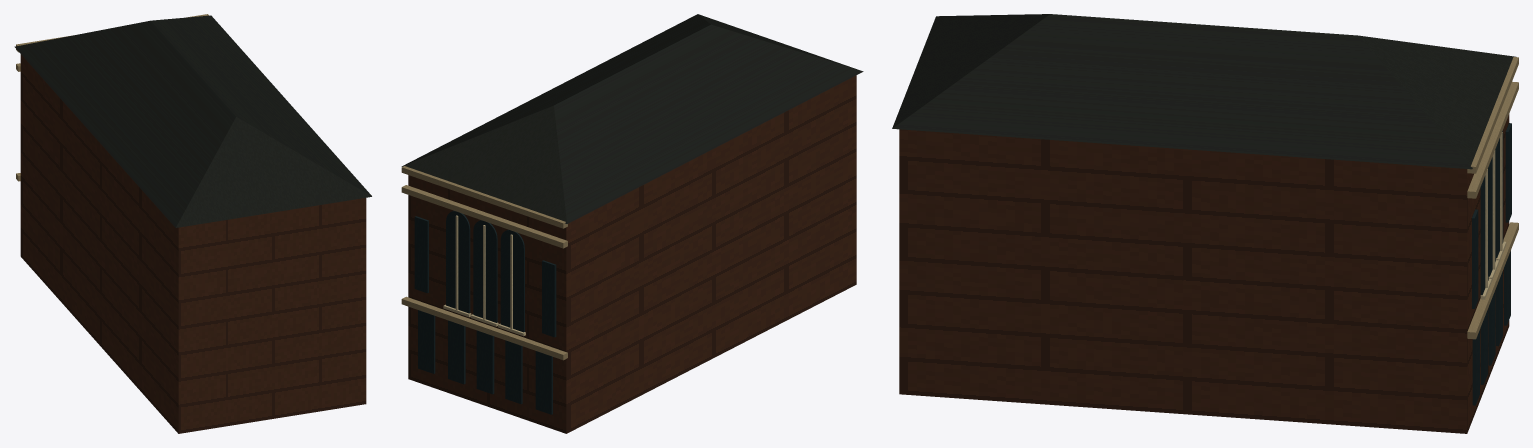
The picture shows the model from 3 angles, left to right: view 1: azimuth 30°, elevation 25°; view 2: azimuth 150°, elevation 25°; view 3: azimuth 270°, elevation 25°; orthographic projection. The views are drawn at different scales.
Visible parts, largest first — view 1: leeskabinet-geldersekade-0, leeskabinet-geldersekade-1; view 2: leeskabinet-geldersekade-0, leeskabinet-geldersekade-1, leeskabinet-geldersekade-2, leeskabinet-geldersekade-4, leeskabinet-geldersekade-3; view 3: leeskabinet-geldersekade-0, leeskabinet-geldersekade-1, leeskabinet-geldersekade-2, leeskabinet-geldersekade-4, leeskabinet-geldersekade-3.
Boxes of the visible parts, x1=… form: leeskabinet-geldersekade-0: x1=20, y1=54, x2=366, y2=433; leeskabinet-geldersekade-1: x1=14, y1=15, x2=371, y2=227; leeskabinet-geldersekade-0: x1=408, y1=75, x2=856, y2=433; leeskabinet-geldersekade-1: x1=401, y1=14, x2=863, y2=223; leeskabinet-geldersekade-2: x1=414, y1=211, x2=556, y2=414; leeskabinet-geldersekade-4: x1=401, y1=166, x2=567, y2=360; leeskabinet-geldersekade-3: x1=443, y1=215, x2=525, y2=336; leeskabinet-geldersekade-0: x1=899, y1=114, x2=1509, y2=433; leeskabinet-geldersekade-1: x1=892, y1=14, x2=1515, y2=169; leeskabinet-geldersekade-2: x1=1472, y1=123, x2=1511, y2=405; leeskabinet-geldersekade-4: x1=1467, y1=57, x2=1518, y2=339; leeskabinet-geldersekade-3: x1=1480, y1=132, x2=1506, y2=299.
Bounding box in the file's own units: 14.48 × 14.8 × 25.05.
Materials: 5 (5 with a texture image).
